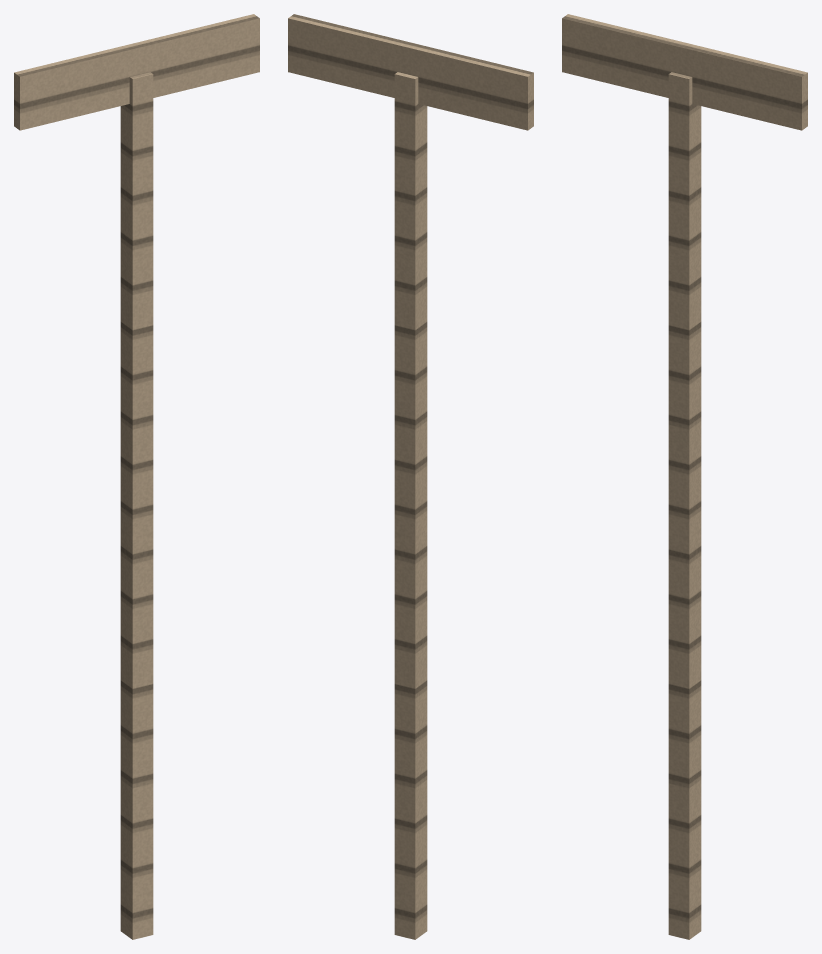
The model's file is street_name_sign.glb.
3 renders of one model, left to right at view 1: azimuth 30°, elevation 25°; view 2: azimuth 150°, elevation 25°; view 3: azimuth 330°, elevation 25°, orthographic.
Parts seen in each view (by area): view 1: street_name_sign-col; view 2: street_name_sign-col; view 3: street_name_sign-col.
Part boxes in pixels (x1,y1,x2,y2): street_name_sign-col: (14, 14, 259, 939); street_name_sign-col: (288, 14, 533, 939); street_name_sign-col: (562, 14, 807, 939).
Bounding box in the file's own units: 0.7 × 2.48 × 0.06.
Materials: 1 (1 with a texture image).
